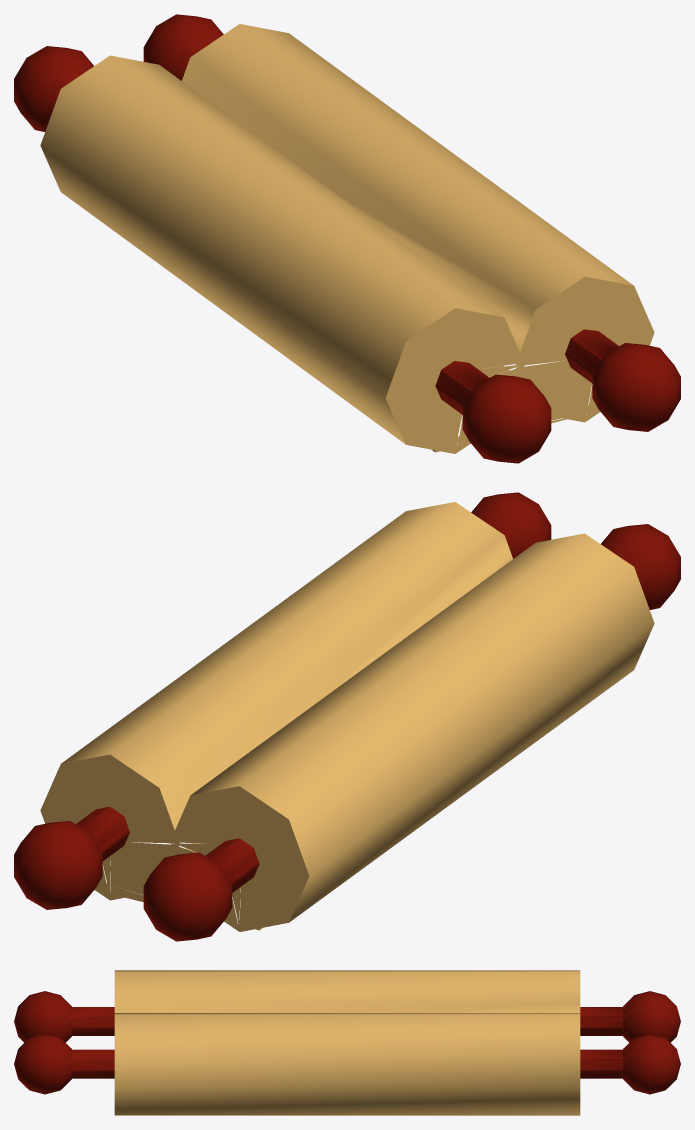
File: scroll.gltf
3 renders of one model, top to bottom at view 1: azimuth 30°, elevation 25°; view 2: azimuth 150°, elevation 25°; view 3: azimuth 270°, elevation 25°, orthographic. The views are drawn at different scales.
Parts seen in each view (by area): view 1: CSGCylinder3D32; view 2: CSGCylinder3D32; view 3: CSGCylinder3D32.
Boxes of the visible parts, bbox=[...] form: CSGCylinder3D32: bbox=[14, 14, 680, 463]; CSGCylinder3D32: bbox=[14, 492, 680, 941]; CSGCylinder3D32: bbox=[14, 970, 680, 1115].
Bounding box in the file's own units: 0.27 × 0.14 × 0.86.
